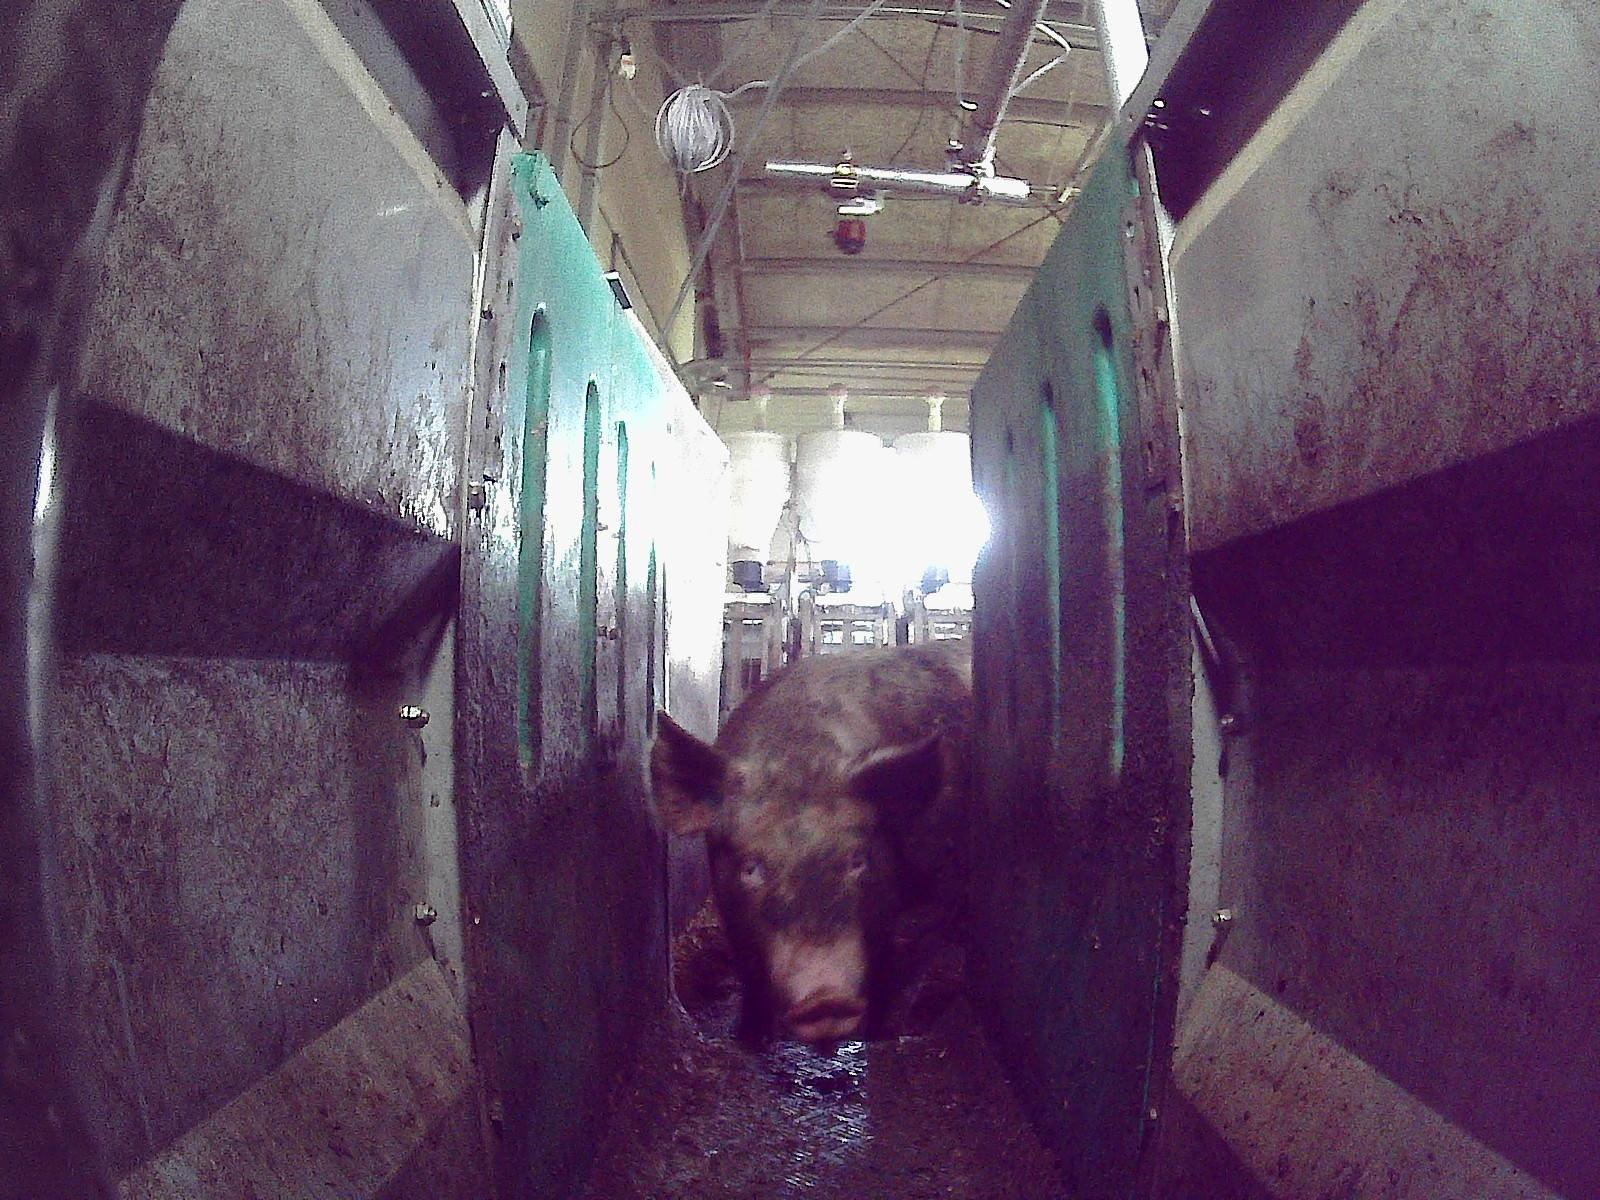Face: (712, 760, 889, 1038)
